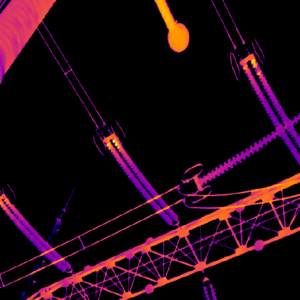insulator: (198, 115, 300, 186), (100, 133, 178, 225), (239, 56, 300, 162), (0, 192, 71, 271)
